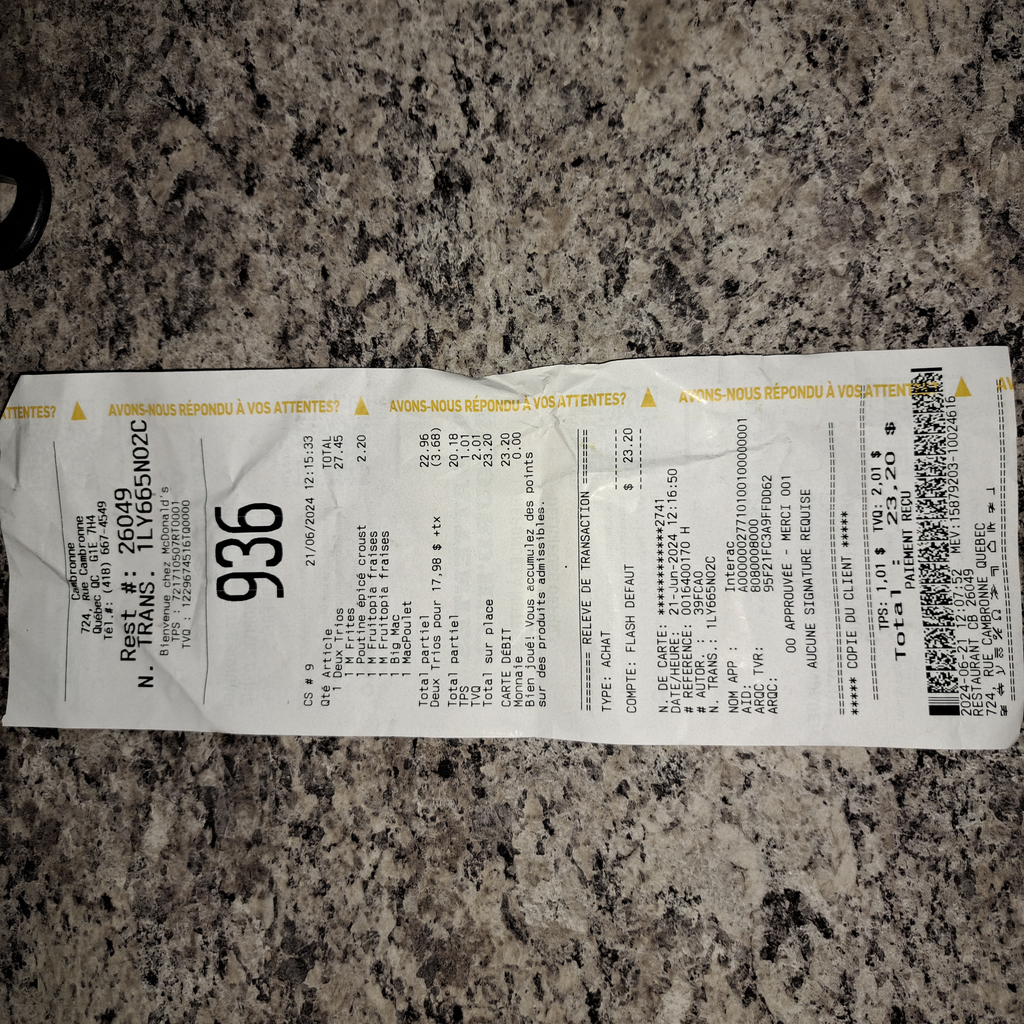recipt: (4, 338, 1020, 753)
